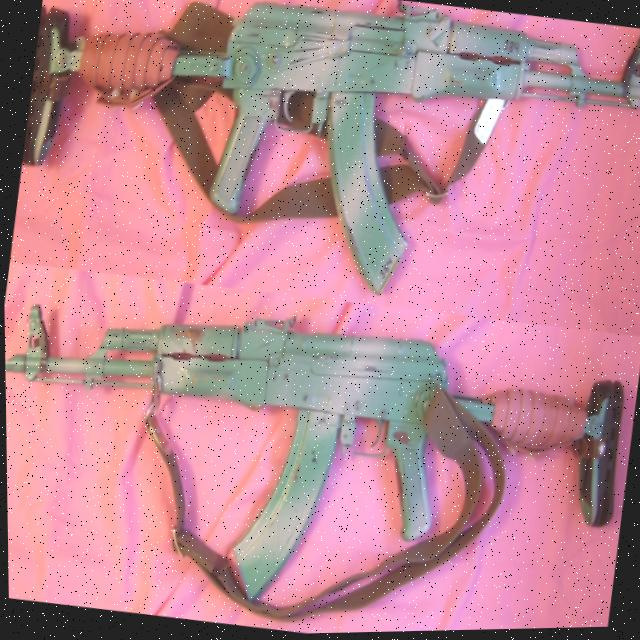firearm: (3, 259, 637, 640), (5, 0, 640, 345)
